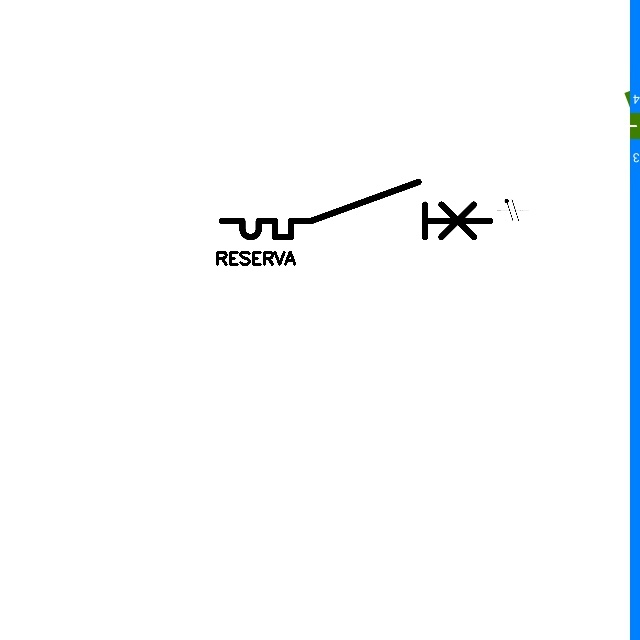interruptor_termomagnetico: (215, 175, 497, 244)
